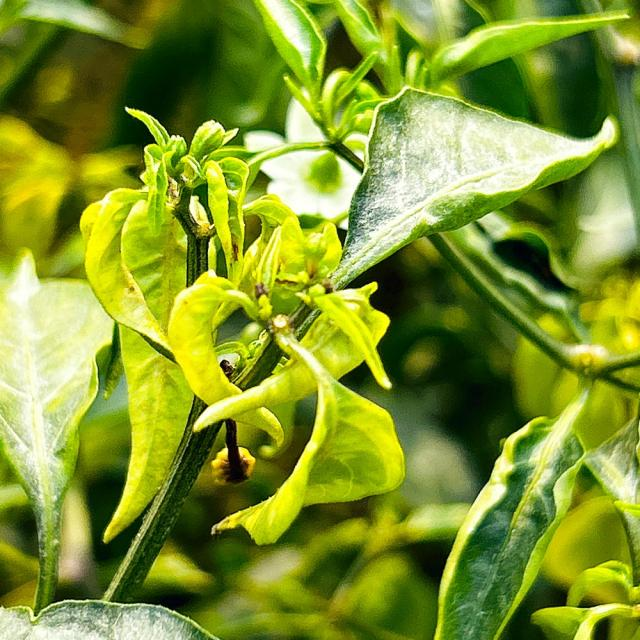Chilli_Leaf_Curl: (3, 2, 636, 635), (79, 106, 407, 547), (324, 84, 620, 292), (0, 247, 120, 614), (433, 386, 592, 638), (0, 596, 222, 638)
